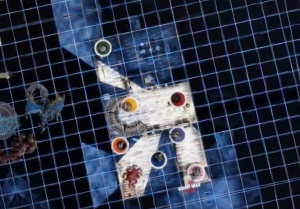blue: (143, 145, 174, 172)
green: (91, 35, 115, 57)
orange: (109, 133, 132, 157)
pink: (183, 158, 208, 185)
red: (168, 87, 190, 111)
violet: (168, 123, 188, 145)
yellow: (119, 92, 141, 116)
